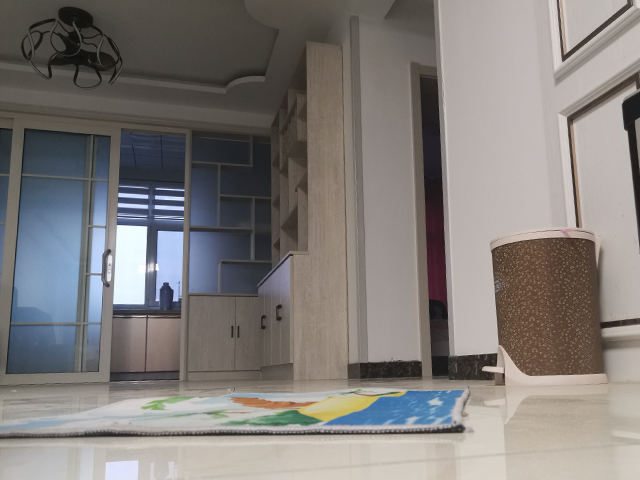cabinet: (178, 249, 332, 390), (110, 306, 182, 381)
carpet: (1, 384, 473, 441)
trashcan: (478, 225, 609, 389)
